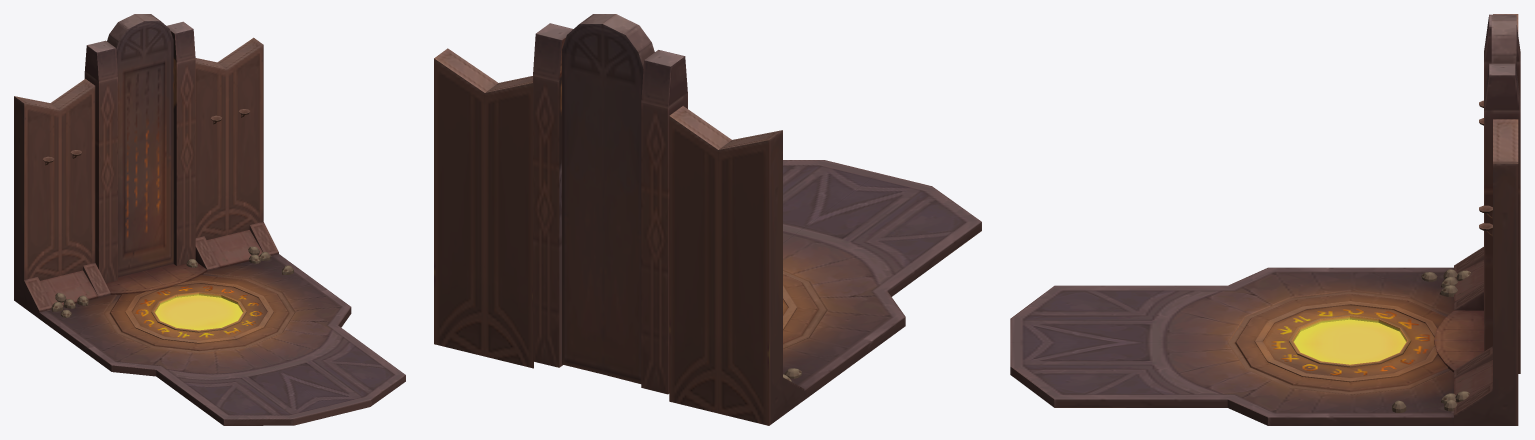
The model's file is shenmijitan_01.FBX.
3 views of the same model, side by side, from view 1: azimuth 30°, elevation 25°; view 2: azimuth 150°, elevation 25°; view 3: azimuth 270°, elevation 25° (orthographic). The views are drawn at different scales.
Parts seen in each view (by area): view 1: shenmijitan_01; view 2: shenmijitan_01; view 3: shenmijitan_01.
Boxes of the visible parts, x1=… form: shenmijitan_01: x1=14, y1=14, x2=405, y2=425; shenmijitan_01: x1=434, y1=14, x2=981, y2=425; shenmijitan_01: x1=1010, y1=14, x2=1520, y2=425.
Bounding box in the file's own units: 934 × 960 × 1343.
